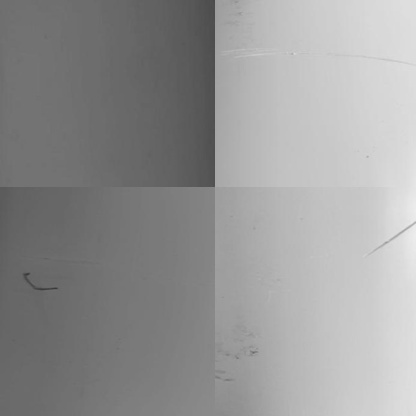fengxi: (19, 267, 69, 292)
sunshang: (365, 216, 413, 259)
